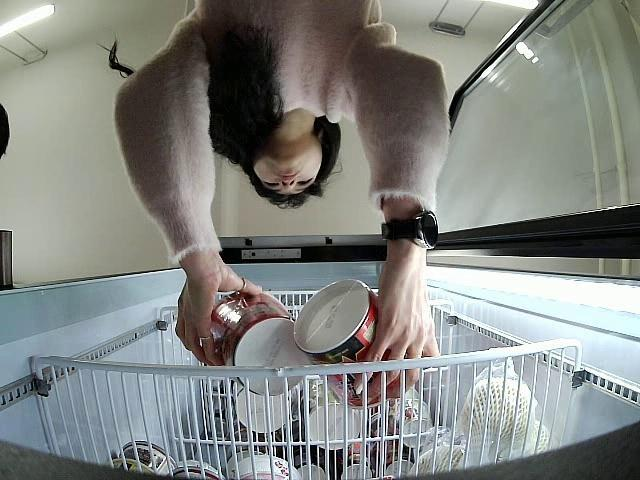01_ShinRamen_L: (294, 278, 406, 408), (213, 291, 312, 398)
